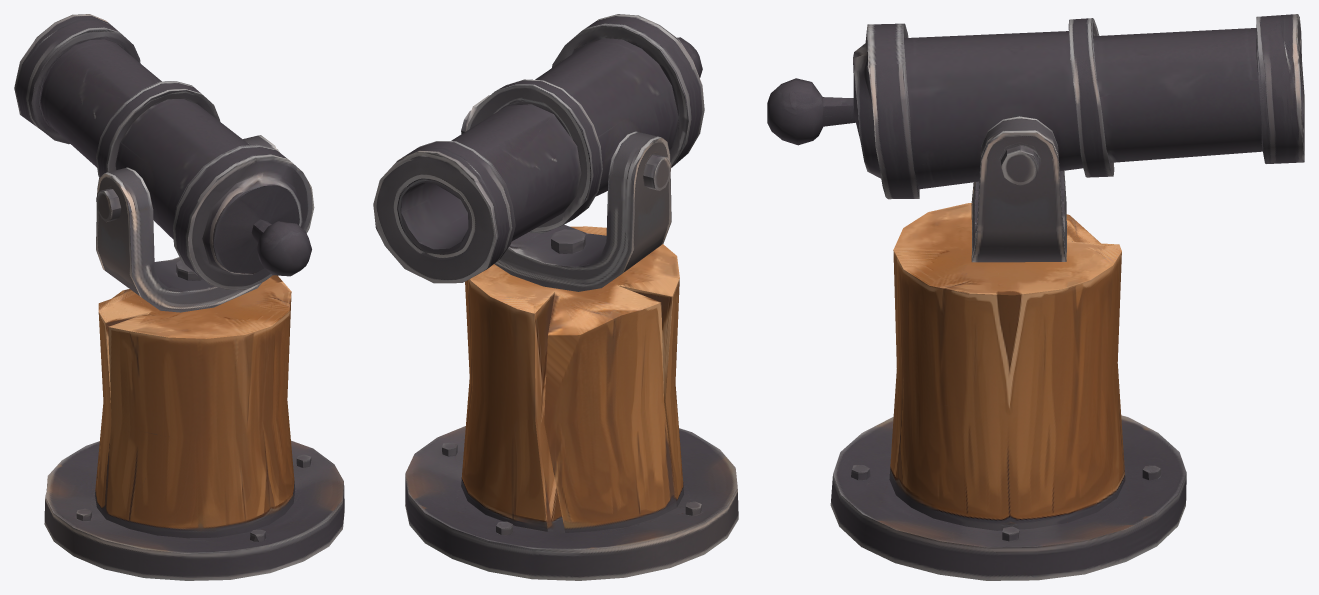
Rendered from cannon-b-1000.glb.
3 renders of one model, left to right at view 1: azimuth 30°, elevation 25°; view 2: azimuth 150°, elevation 25°; view 3: azimuth 270°, elevation 25°, orthographic. The views are drawn at different scales.
Parts seen in each view (by area): view 1: mount, barrel; view 2: mount, barrel; view 3: mount, barrel.
Boxes of the visible parts, box(x1,y1,x2,y2) form: mount: box(44, 135, 344, 580); barrel: box(14, 14, 314, 289); mount: box(405, 95, 738, 580); barrel: box(373, 14, 704, 283); mount: box(830, 116, 1186, 580); barrel: box(767, 14, 1304, 199).
Bounding box in the file's own units: 0.661 × 0.9988 × 1.
1 material, 1 textured.
